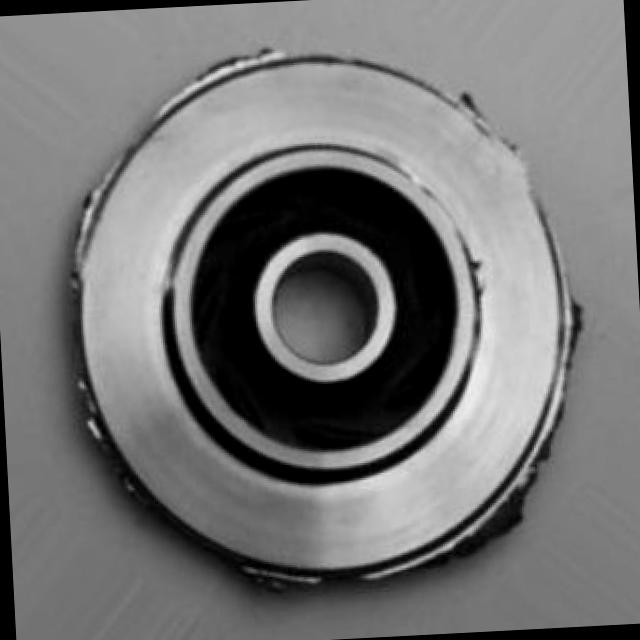Defect: (462, 433, 583, 564)
